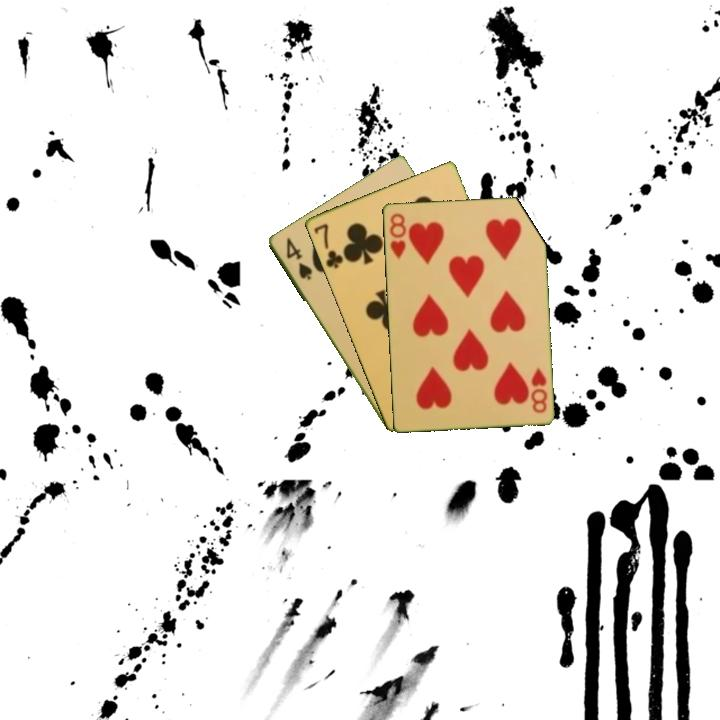4s: (282, 234, 315, 283)
7c: (310, 220, 346, 271)
8h: (527, 363, 550, 416), (386, 210, 409, 261)
